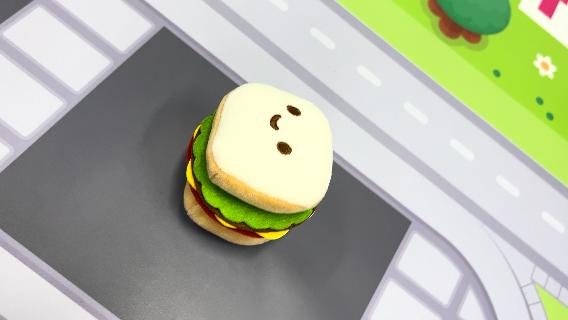sandwich: (182, 80, 336, 246)
